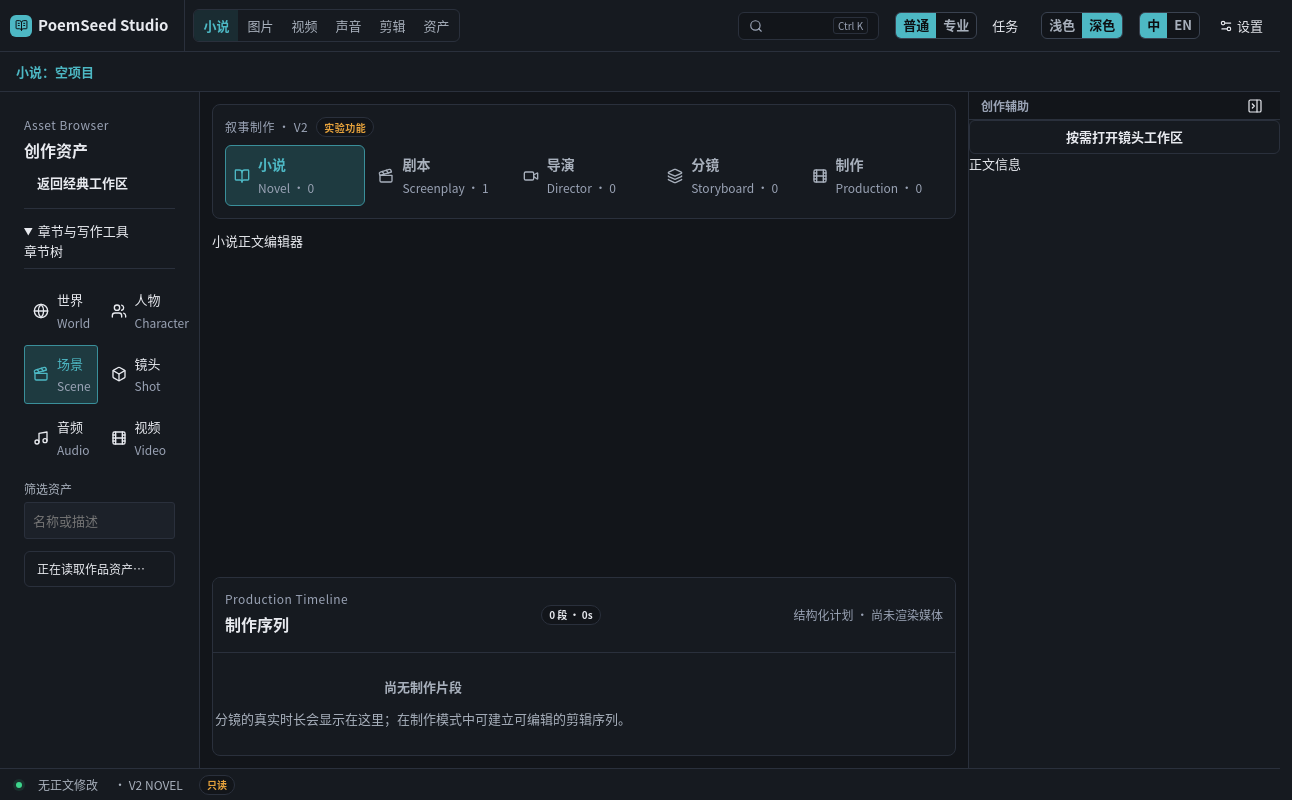
Test: standalone Script uses original Creative workspace › keeps reader access read-only and hides creation when the server lacks this document type
Step 1. Click the tab "剧本 Screenplay · 1" → (440, 176), box [369,145,510,206]
(page scrolled)
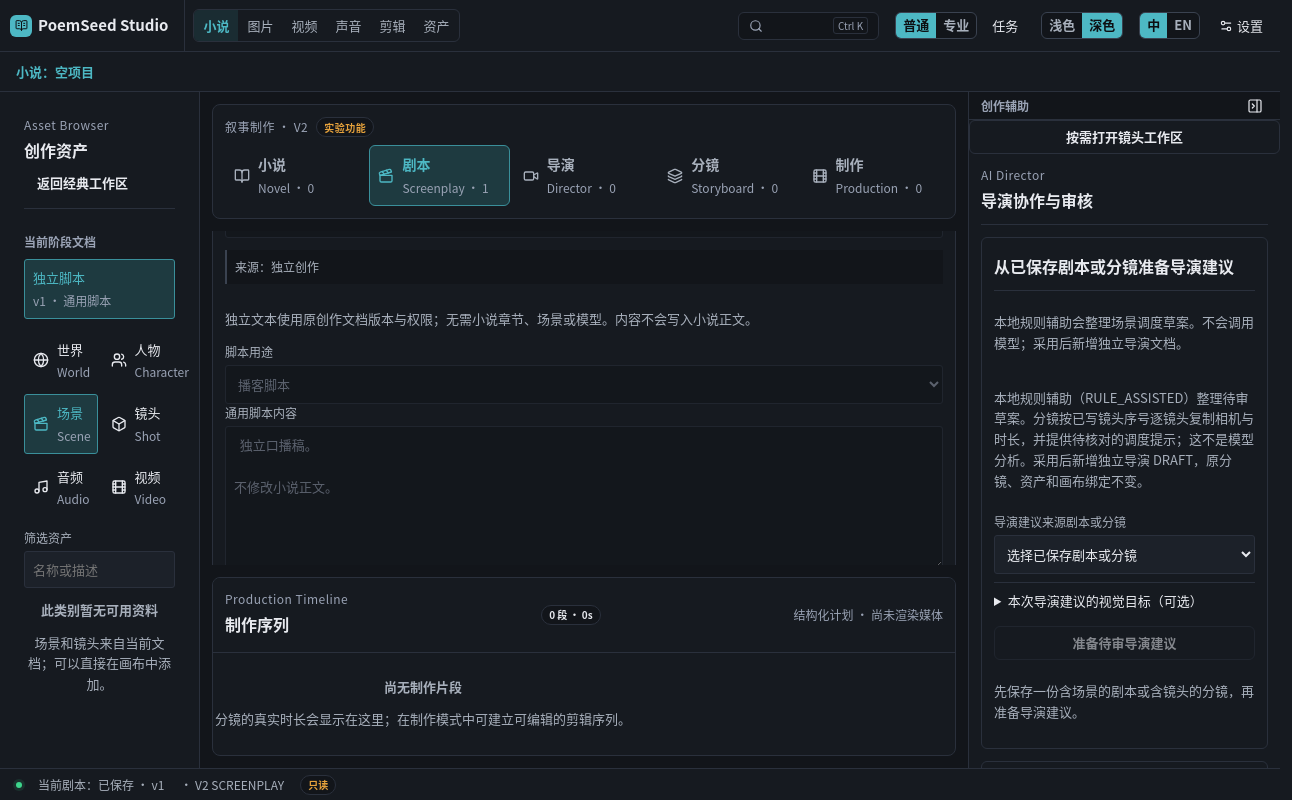
Expected: the element labelled "通用脚本内容" is disabled, [213,231,955,565]
